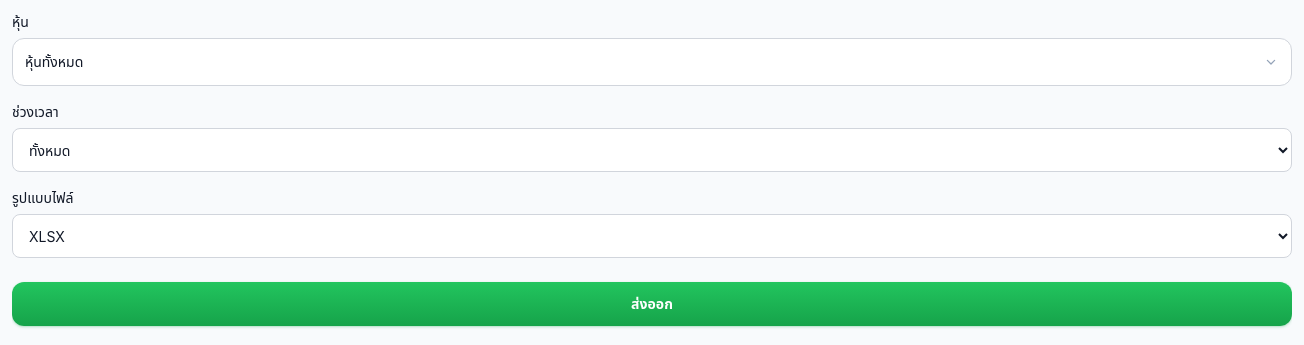
Scenario: ExportForm › offers the four scopes and both formats
Expected: the dropdown labelled "ช่วงเวลา" is shown, [12,128,1292,172]
Expected: the dropdown labelled "รูปแบบไฟล์" is shown, [12,214,1292,258]
Click the dropdown labelled "หุ้น" at [640, 62], box [25,52,1255,72]
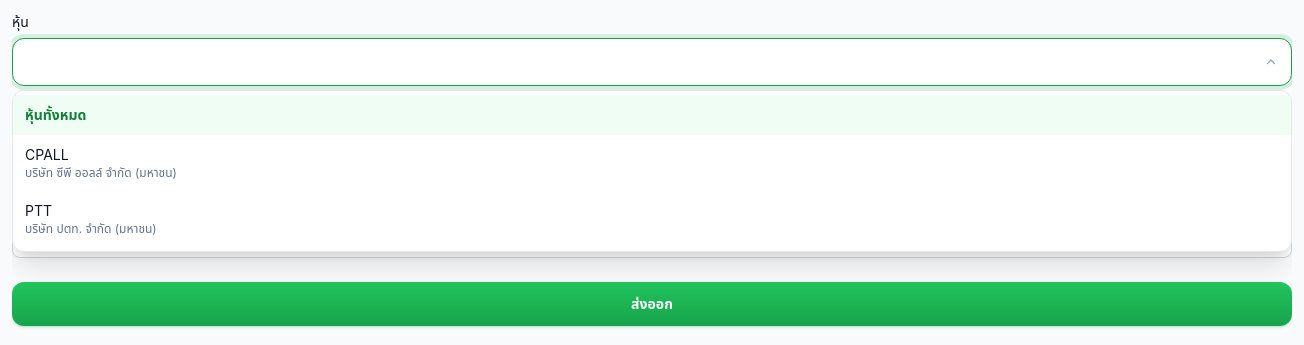
Result: the option "หุ้นทั้งหมด" is shown at [13,95,1291,135]
